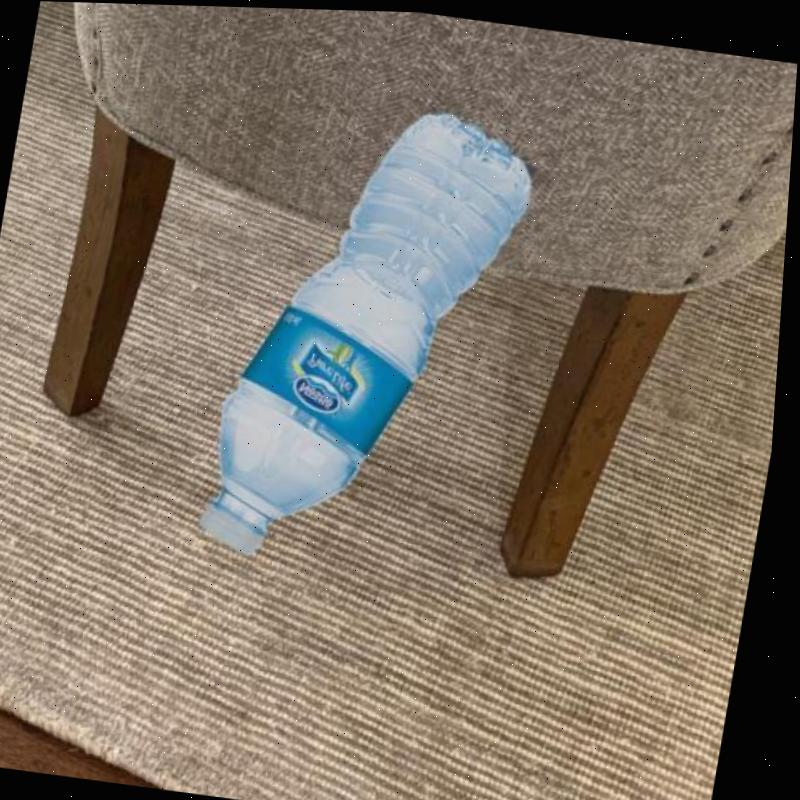botella: (199, 85, 547, 580)
